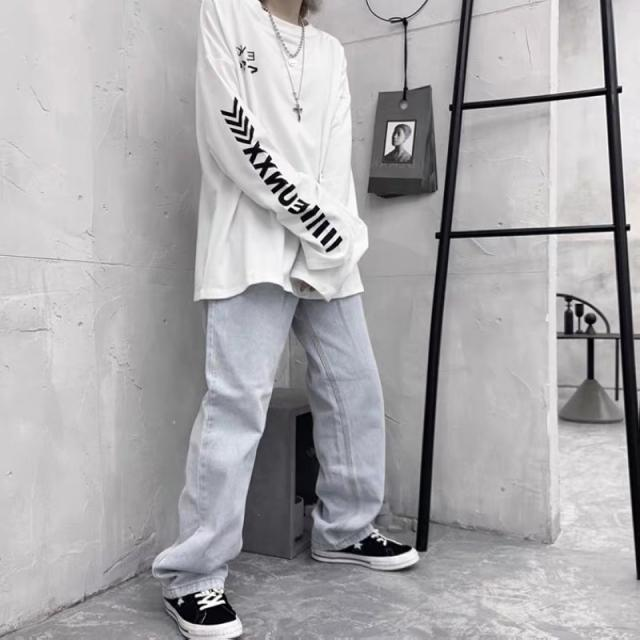Shirt: (188, 0, 374, 311)
